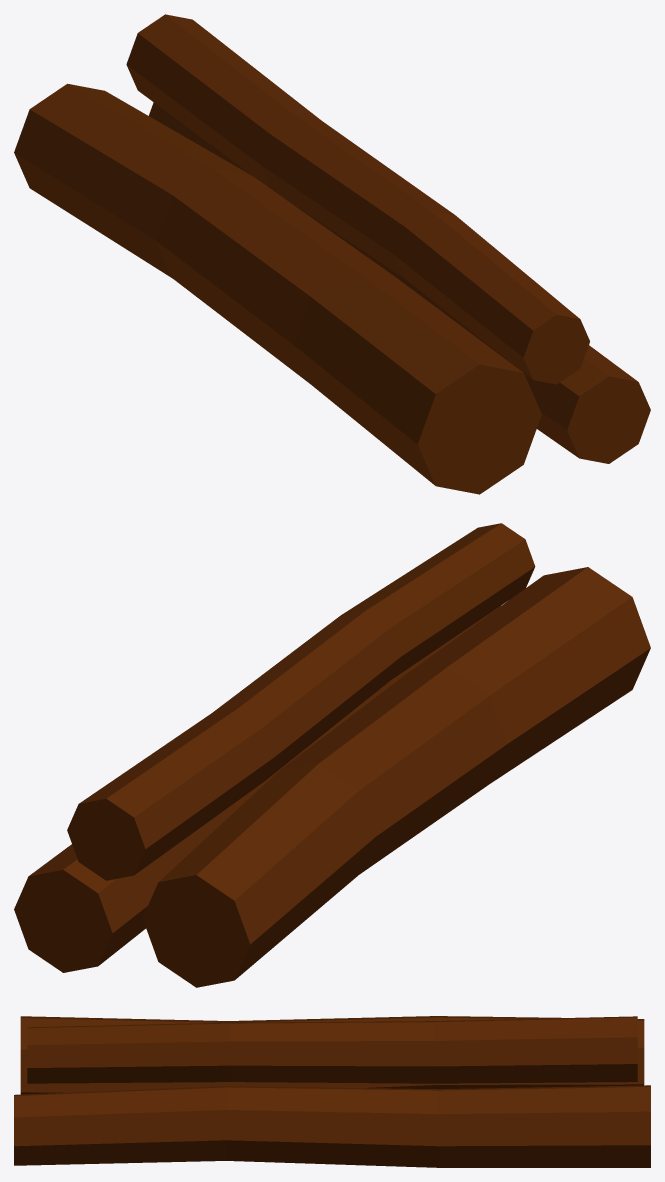
The model's file is Logs.fbx.
3 views of the same model, one above another, from view 1: azimuth 30°, elevation 25°; view 2: azimuth 150°, elevation 25°; view 3: azimuth 270°, elevation 25° (orthographic). The views are drawn at different scales.
Visible parts, largest first — view 1: Logs; view 2: Logs; view 3: Logs.
Part boxes in pixels (bbox=[...]): Logs: bbox=[14, 14, 650, 494]; Logs: bbox=[14, 523, 650, 987]; Logs: bbox=[14, 1016, 650, 1167].
Bounding box in the file's own units: 0.8545 × 0.6136 × 2.6.
